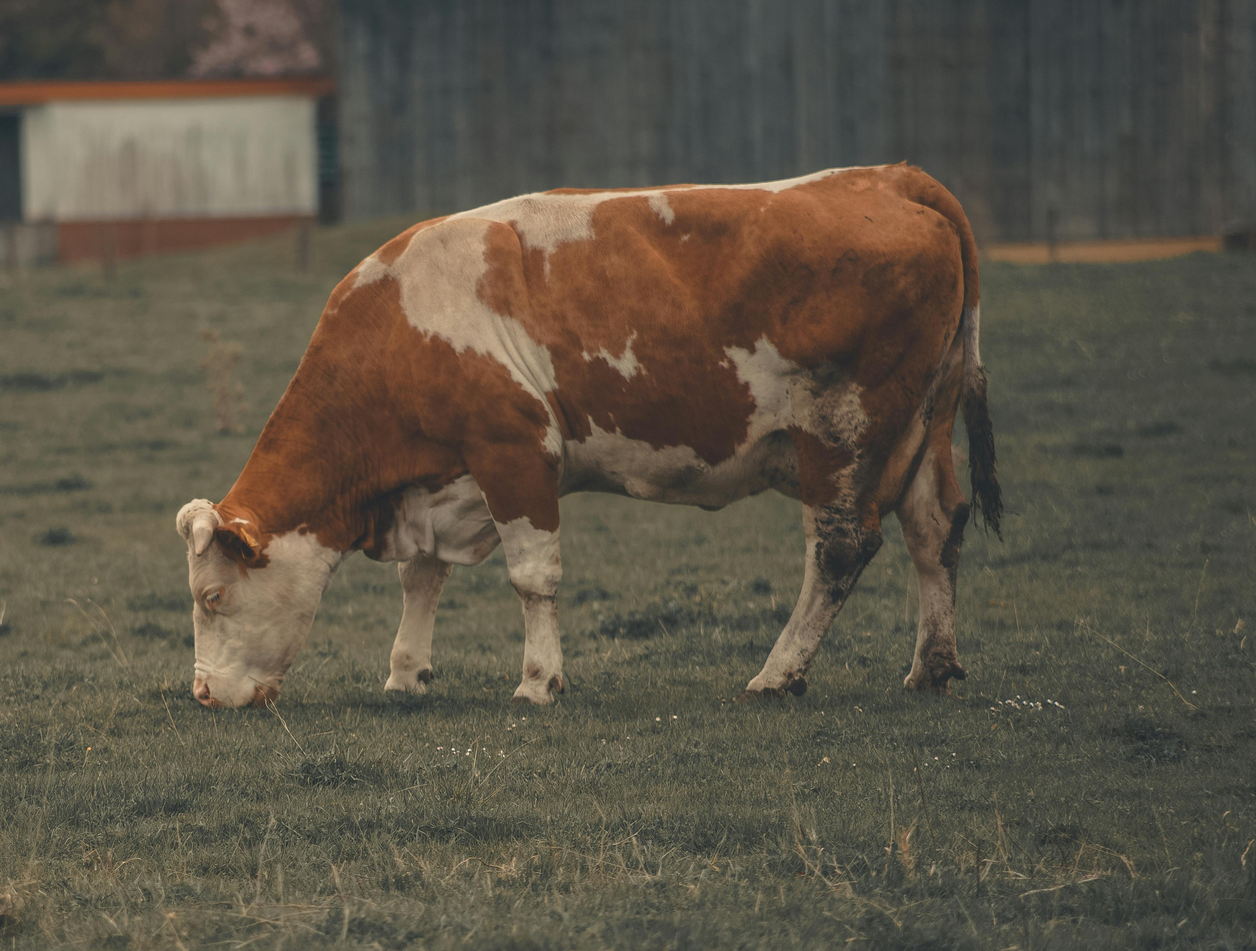bovino: (181, 164, 983, 708)
